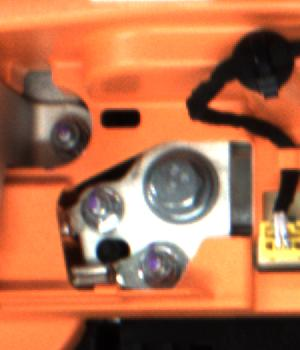nut_b: (144, 149, 231, 228)
screw_s: (45, 117, 89, 155), (135, 245, 177, 283), (79, 190, 123, 226)
